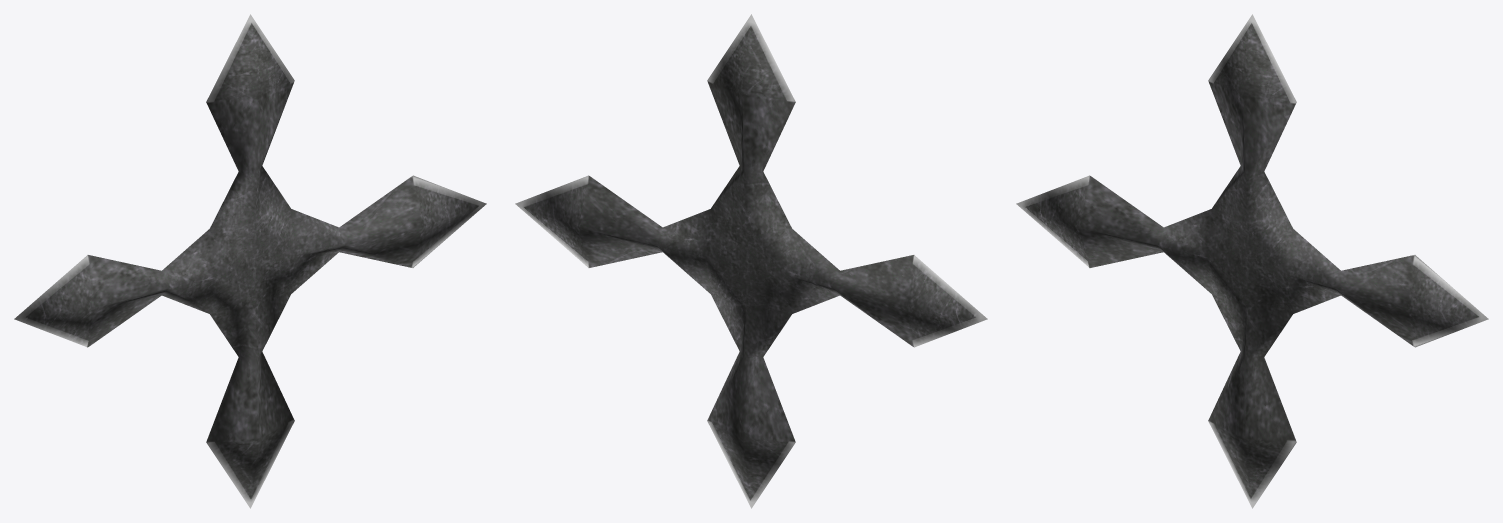
The model's file is Shuriken2.fbx.
3 renders of one model, left to right at view 1: azimuth 30°, elevation 25°; view 2: azimuth 150°, elevation 25°; view 3: azimuth 330°, elevation 25°, orthographic.
Parts seen in each view (by area): view 1: Cube; view 2: Cube; view 3: Cube.
Boxes of the visible parts, <box> form: Cube: <box>14,14,486,508</box>; Cube: <box>515,14,987,508</box>; Cube: <box>1016,14,1488,508</box>.
Bounding box in the file's own units: 3.2 × 3.2 × 0.2.
